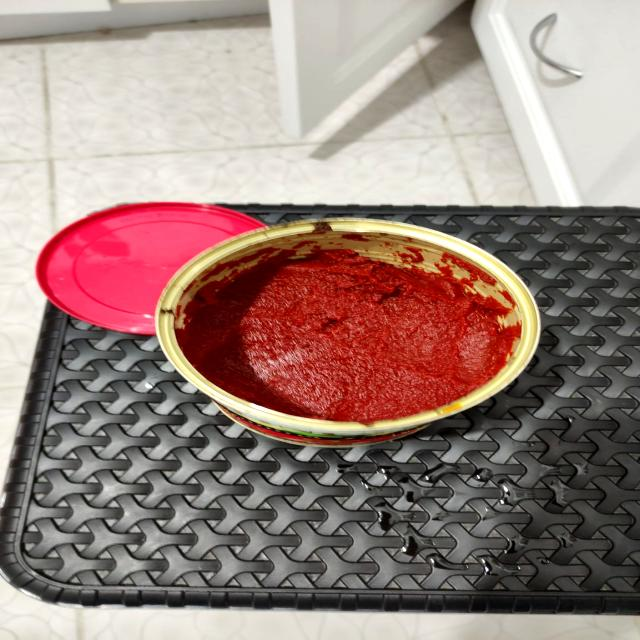tomato paste: (143, 202, 555, 457)
